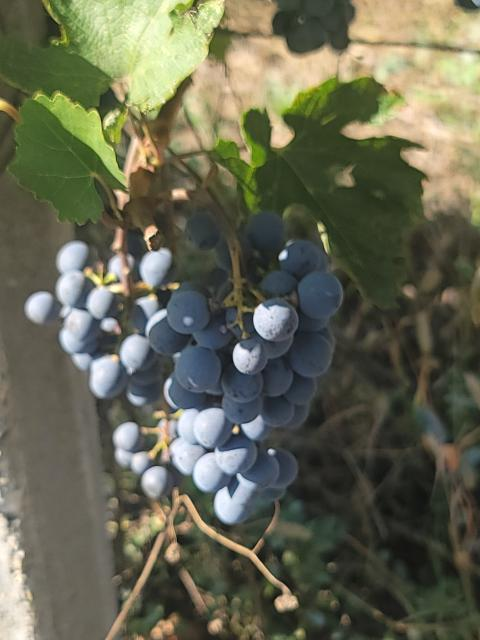grapes: (146, 211, 342, 524), (25, 240, 189, 406), (140, 249, 171, 291)
